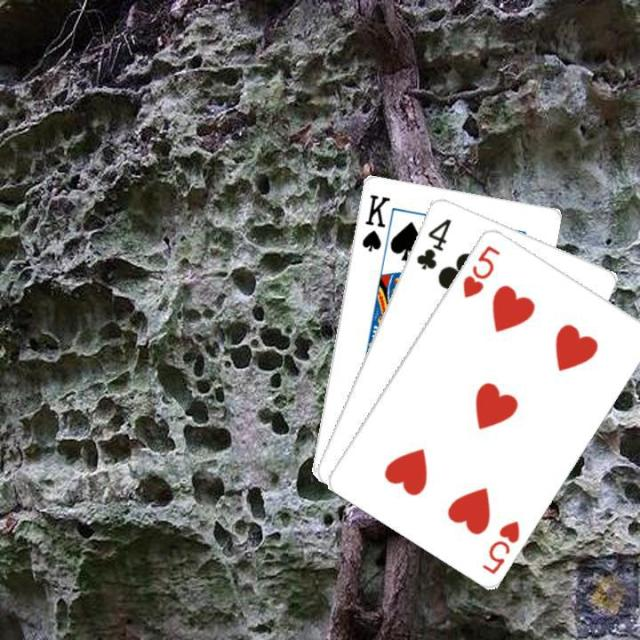4C: (412, 214, 452, 271)
5H: (458, 240, 502, 300), (478, 516, 522, 575)
KS: (357, 190, 391, 253)
